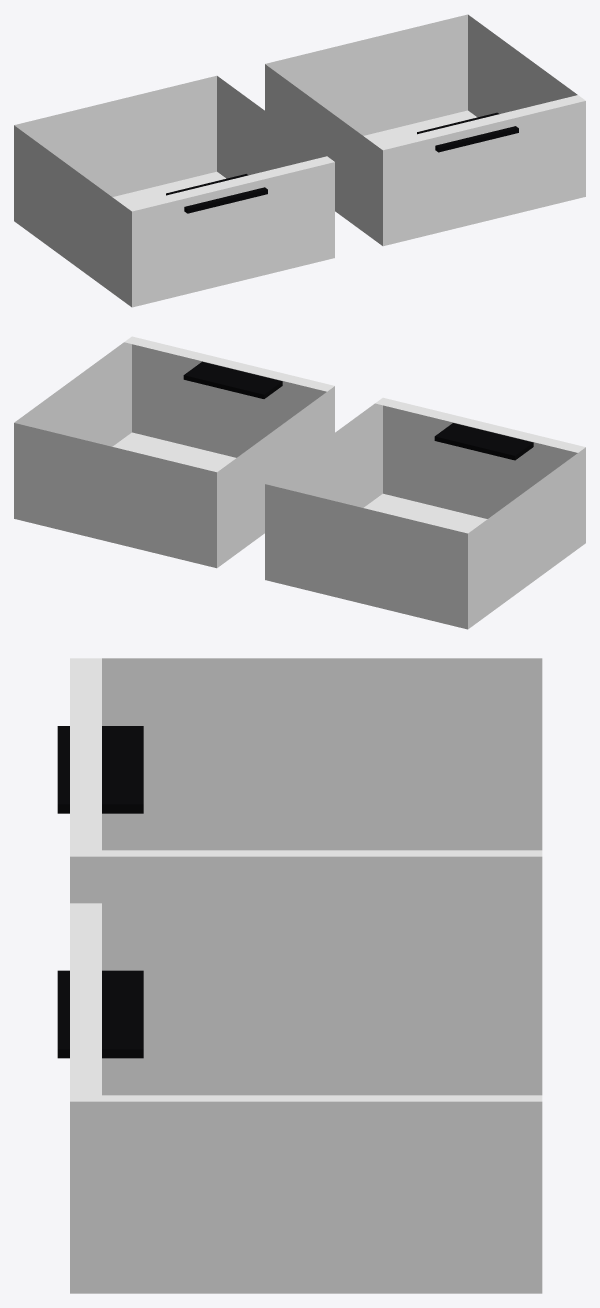
Rendered from CAJONES_CHICOS.obj.
3 views of the same model, one above another, from view 1: azimuth 30°, elevation 25°; view 2: azimuth 150°, elevation 25°; view 3: azimuth 270°, elevation 25° (orthographic). The views are drawn at different scales.
Parts seen in each view (by area): view 1: CAJONES_CHICOS; view 2: CAJONES_CHICOS; view 3: CAJONES_CHICOS.
Part boxes in pixels (x1,y1,x2,y2): CAJONES_CHICOS: (14,14,585,307); CAJONES_CHICOS: (14,336,585,629); CAJONES_CHICOS: (57,658,542,1293).
Bounding box in the file's own units: 1.36 × 0.2757 × 0.6304.
Materials: 2 (1 with a texture image).
